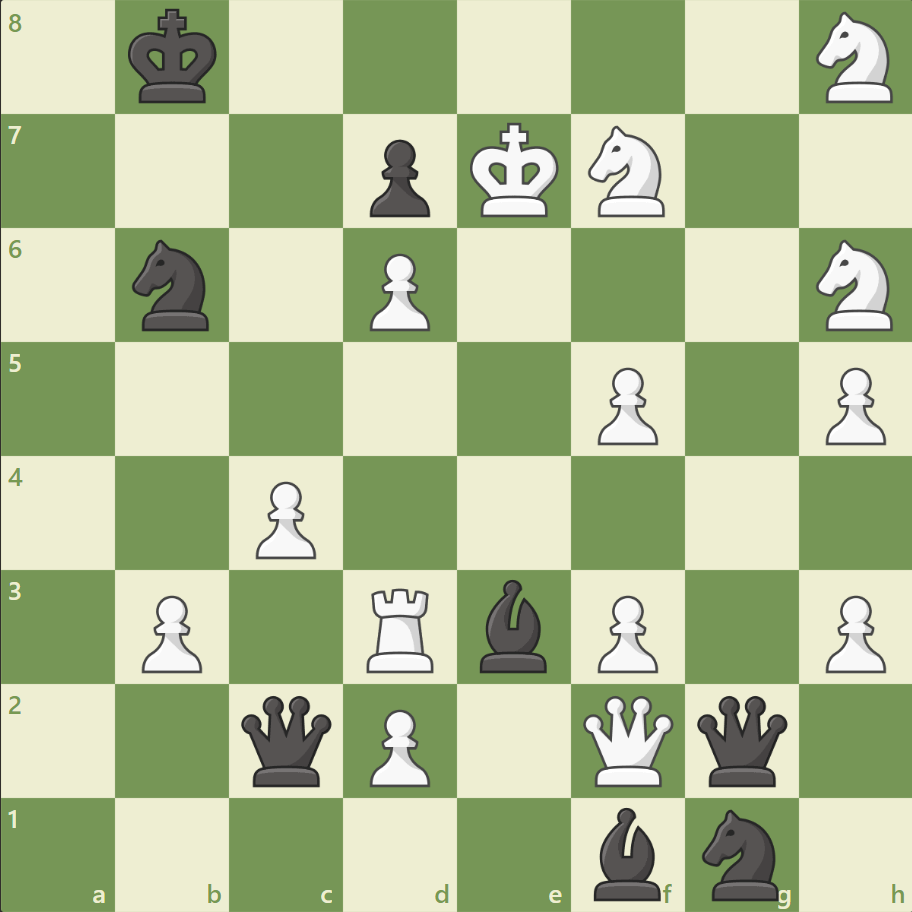K: (465, 117, 565, 225)
N: (806, 7, 903, 110), (806, 234, 903, 337), (579, 121, 676, 223)
P: (247, 473, 322, 564), (133, 586, 208, 677), (361, 246, 435, 337), (588, 359, 662, 450), (815, 359, 889, 450), (588, 586, 662, 677), (815, 586, 889, 677), (361, 700, 435, 791)
Q: (578, 690, 677, 789)
R: (360, 579, 442, 676)
b: (585, 801, 669, 904), (471, 574, 555, 676)
k: (124, 4, 224, 112)
n: (124, 234, 222, 337), (692, 802, 789, 904)
p: (361, 132, 435, 223)
q: (237, 690, 336, 789), (691, 690, 790, 789)
